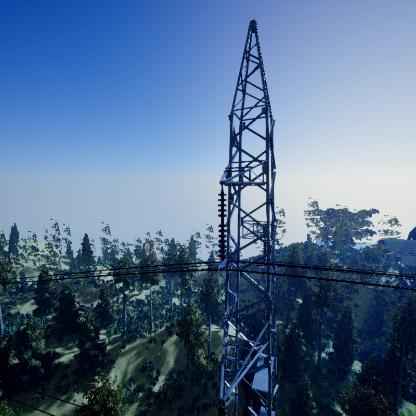insulator: (215, 190, 228, 258)
